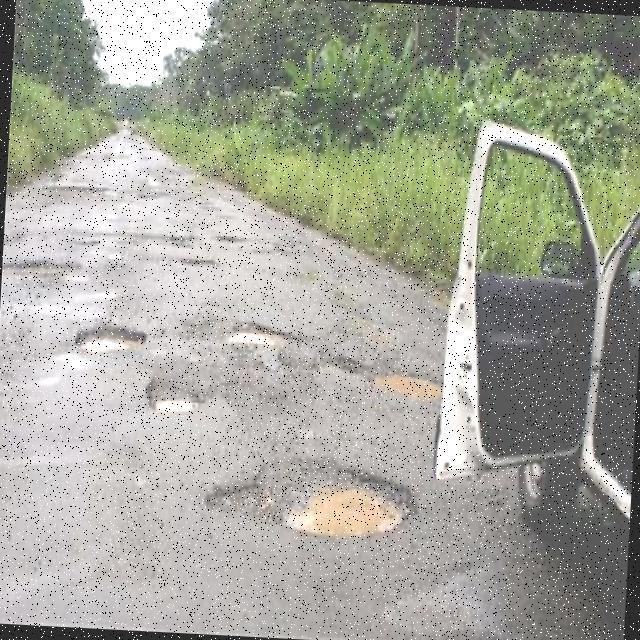Pothole: (205, 456, 415, 539), (79, 325, 150, 357), (148, 379, 203, 417), (375, 374, 441, 404), (223, 322, 293, 349)
